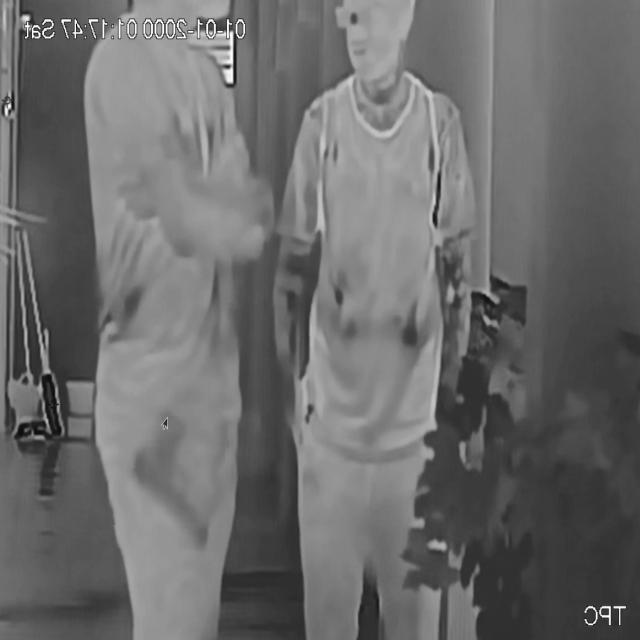Weapon: (111, 415, 225, 551)
